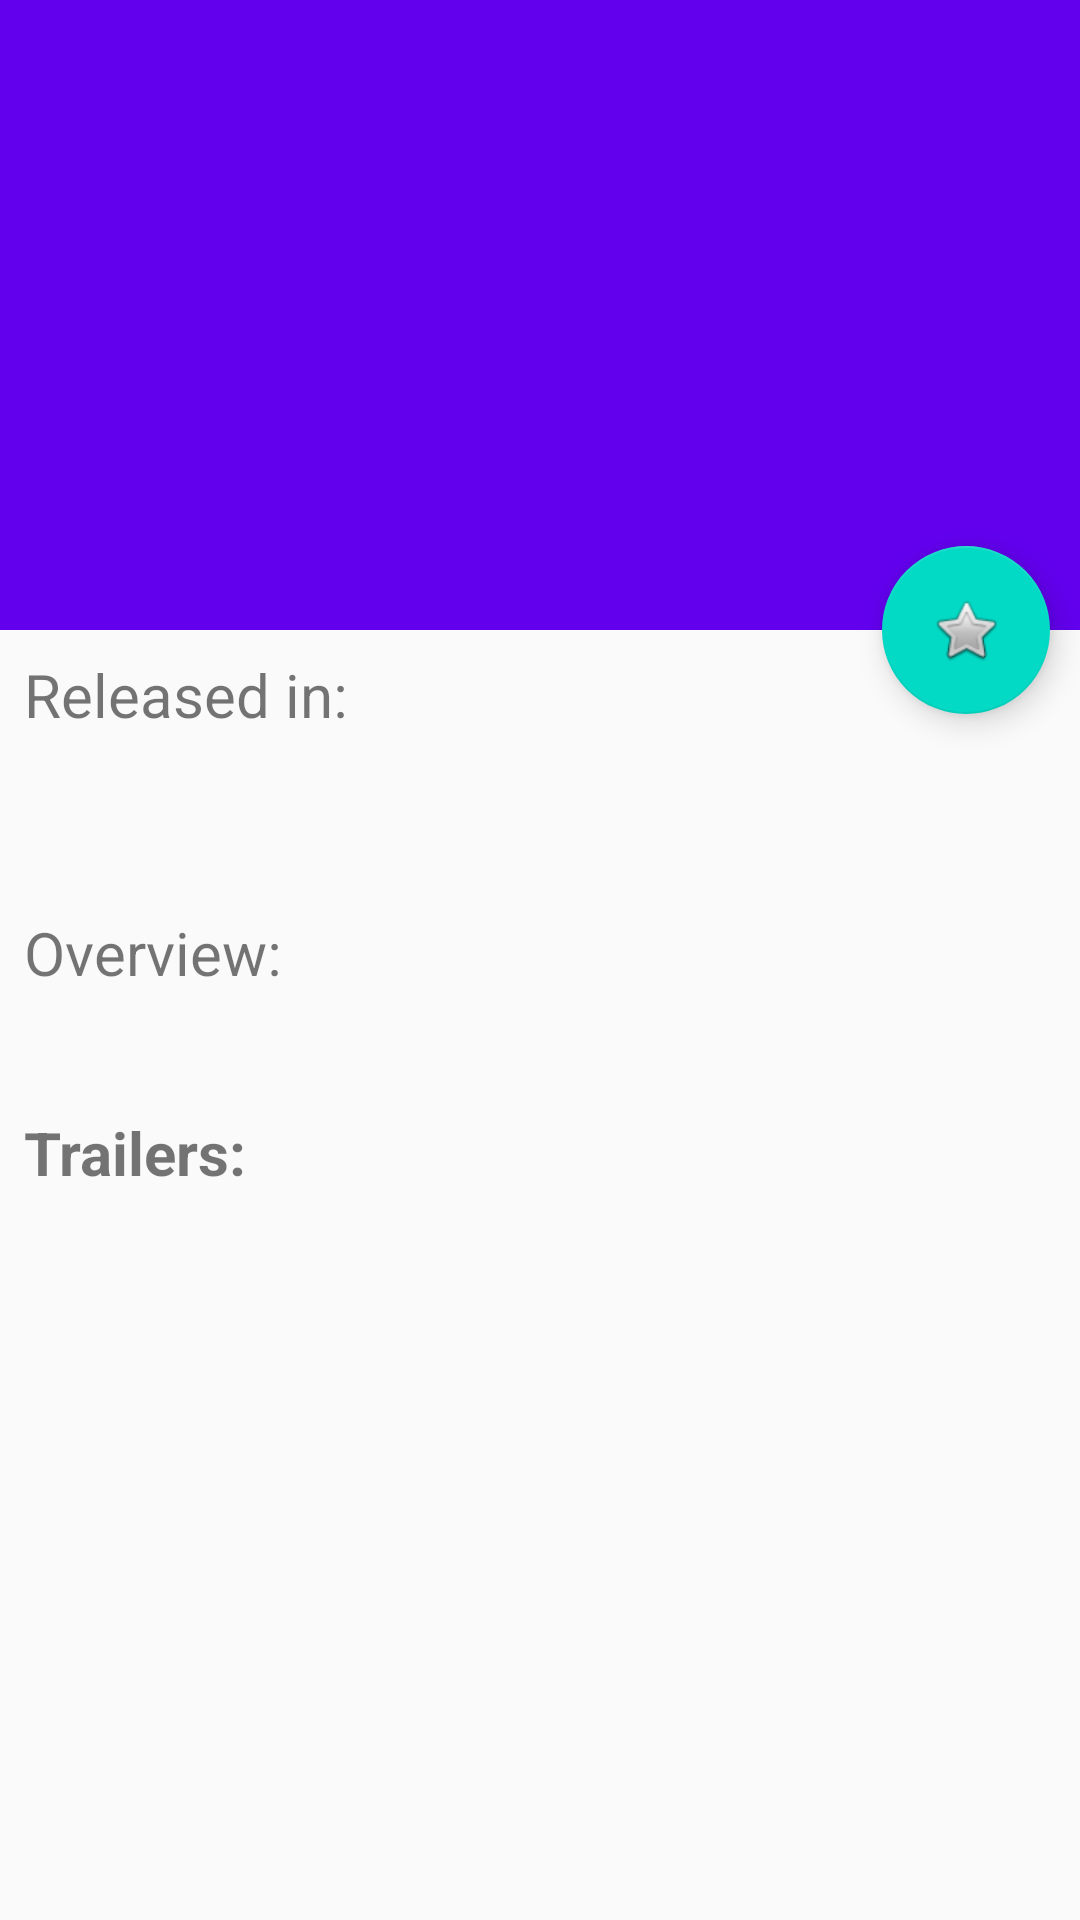

Where to tap for icons on this 1080w x 1920h app screen, as point (x, y):
star: point (966, 630)
